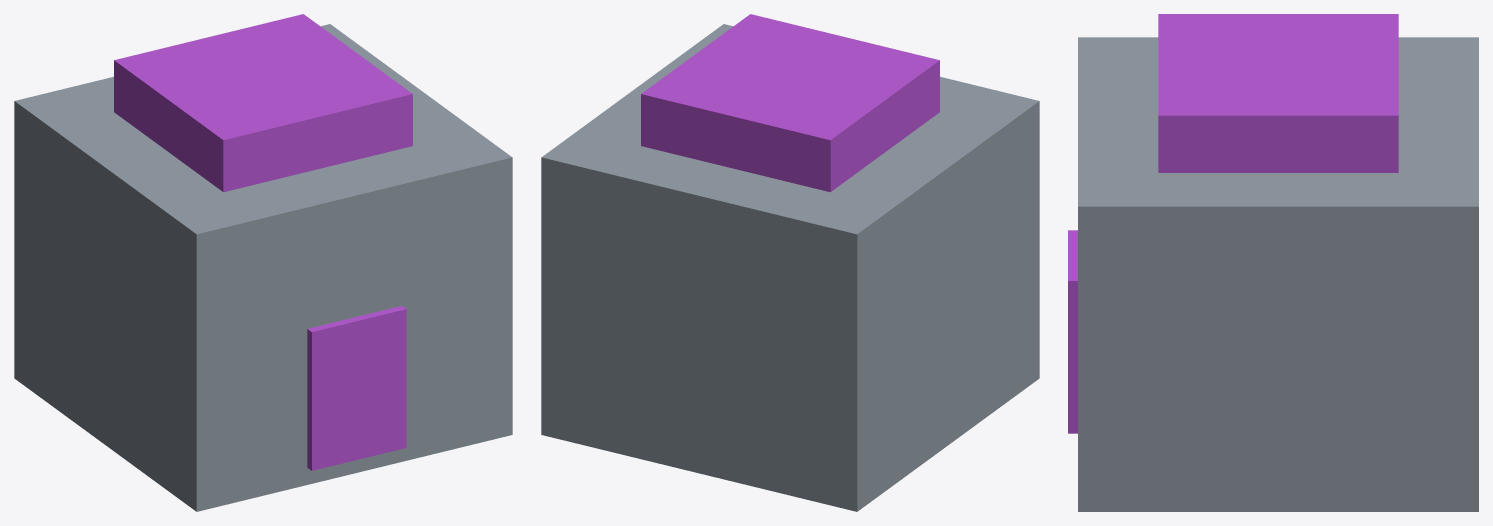
The model's file is CH_StasisProjectorBuilding_LOD0.glb.
The picture shows the model from 3 angles, left to right: view 1: azimuth 30°, elevation 25°; view 2: azimuth 150°, elevation 25°; view 3: azimuth 270°, elevation 25°; orthographic projection. The views are drawn at different scales.
Parts seen in each view (by area): view 1: EntranceGate; view 2: EntranceGate; view 3: EntranceGate.
Part boxes in pixels (bbox=[...]): EntranceGate: bbox=[14, 14, 512, 511]; EntranceGate: bbox=[541, 14, 1039, 511]; EntranceGate: bbox=[1068, 14, 1478, 511].
Bounding box in the file's own units: 400 × 399 × 410.
